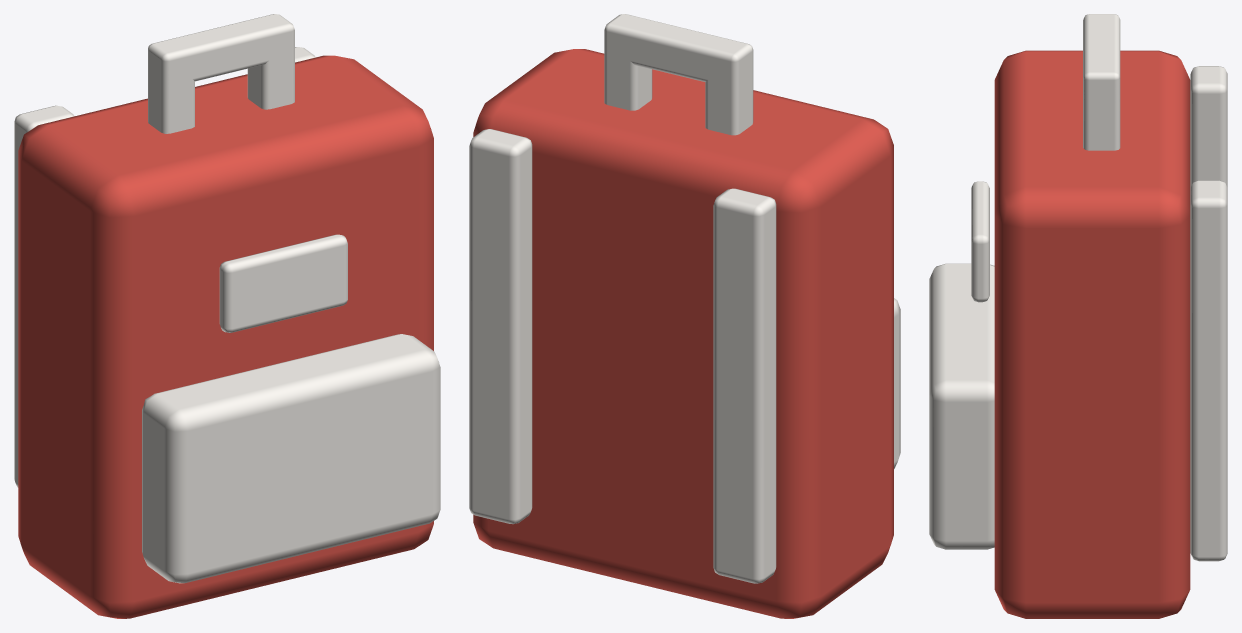
The model's file is school-backpack.glb.
3 renders of one model, left to right at view 1: azimuth 30°, elevation 25°; view 2: azimuth 150°, elevation 25°; view 3: azimuth 270°, elevation 25°, orthographic. The views are drawn at different scales.
Parts seen in each view (by area): view 1: body, front-pocket, label, handle-top, strap-l, handle-l, handle-r; view 2: body, strap-l, strap-r, handle-top, handle-l, handle-r, front-pocket; view 3: body, front-pocket, strap-r, strap-l, handle-top, label, handle-r.
Boxes of the visible parts, <box> form: body: <box>18,55,433,618</box>; front-pocket: <box>142,334,440,583</box>; label: <box>219,234,347,332</box>; handle-top: <box>148,14,294,84</box>; strap-l: <box>14,105,73,487</box>; handle-l: <box>148,57,194,133</box>; handle-r: <box>247,34,294,109</box>; body: <box>473,49,893,618</box>; strap-l: <box>713,188,776,583</box>; strap-r: <box>469,129,532,523</box>; handle-top: <box>604,14,753,85</box>; handle-l: <box>705,55,753,135</box>; handle-r: <box>604,35,652,110</box>; front-pocket: <box>894,298,900,468</box>; body: <box>994,50,1190,618</box>; front-pocket: <box>929,263,994,549</box>; strap-r: <box>1190,180,1227,561</box>; strap-l: <box>1190,66,1227,187</box>; handle-top: <box>1083,14,1120,102</box>; label: <box>971,181,989,302</box>; handle-r: <box>1083,84,1120,150</box>.
Bounding box in the file's own units: 0.82 × 1.2 × 0.64.
